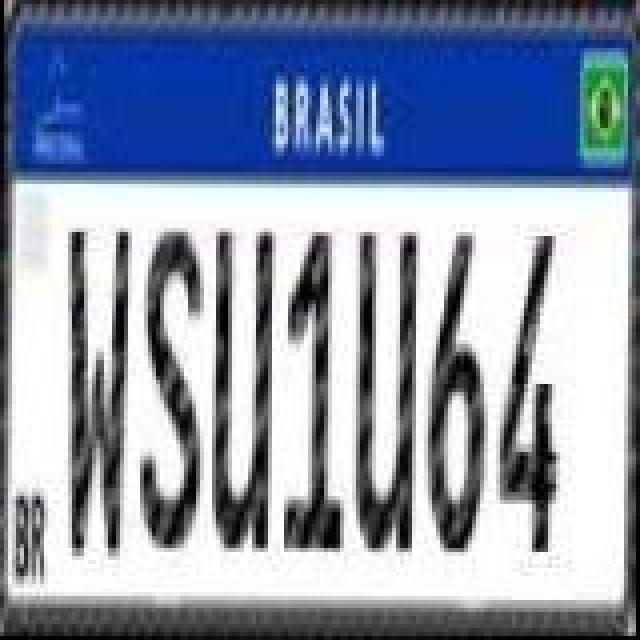1: (278, 222, 350, 558)
4: (492, 220, 560, 556)
6: (420, 224, 488, 560)
S: (138, 226, 210, 550)
U: (352, 224, 420, 560), (208, 226, 276, 550)
W: (60, 228, 128, 564)
